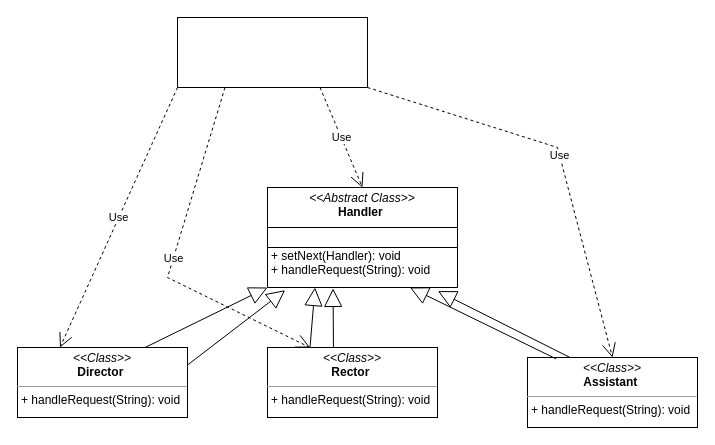
The diagram is 715 pixels wide and 445 high, and some of its shapes have lost their labels. Here are the shapes that lost their labels. From the top down, the centre of each, then its label:
At [272,52]: "<<Class>> Main + main(args: String[]): void".
At [362,237]: "# Handler next".
